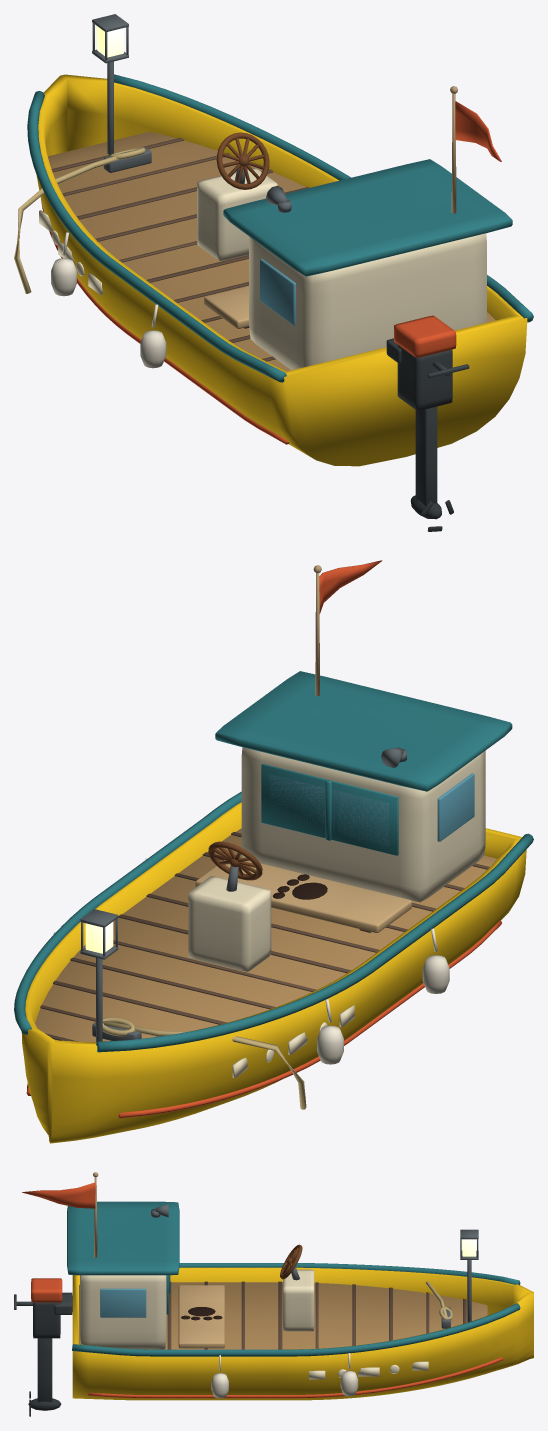
File: boat_v2.glb
3 renders of one model, top to bottom at view 1: azimuth 30°, elevation 25°; view 2: azimuth 150°, elevation 25°; view 3: azimuth 270°, elevation 25°, orthographic. The views are drawn at different scales.
Visible parts, largest first — view 1: Boat_Hull, Boat_Cabin, Boat_CabinRoof, Boat_Deck, Boat_Rail, Boat_HelmStand, Boat_DeckPlanks, Boat_Motor, Boat_MotorLeg, Boat_MotorCowl, Boat_Fenders, Boat_Helm (+9 smaller); view 2: Boat_Hull, Boat_Deck, Boat_CabinRoof, Boat_Cabin, Boat_Rail, Boat_WindowFrames, Boat_HelmStand, Boat_Bench, Boat_Windows, Boat_DeckPlanks, Boat_Fenders, Boat_Stripe (+7 smaller); view 3: Boat_Hull, Boat_Deck, Boat_CabinRoof, Boat_Rail, Boat_Cabin, Boat_Bench, Boat_DeckPlanks, Boat_HelmStand, Boat_Stripe, Boat_Windows, Boat_MotorLeg, Boat_Motor (+7 smaller).
Boxes of the visible parts, x1,y1,x2,y2 form: Boat_Hull: (36,74,527,466); Boat_Cabin: (249,233,486,370); Boat_CabinRoof: (223,159,512,276); Boat_Deck: (48,131,495,371); Boat_Rail: (27,74,533,382); Boat_HelmStand: (197,168,277,260); Boat_DeckPlanks: (51,138,309,361); Boat_Motor: (386,338,452,410); Boat_MotorLeg: (410,406,453,531); Boat_MotorCowl: (394,315,456,357); Boat_Fenders: (51,232,166,368); Boat_Helm: (216,132,269,189); Boat_Hull: (21,802,526,1143); Boat_Deck: (35,828,497,1042); Boat_CabinRoof: (215,671,512,791); Boat_Cabin: (241,747,485,902); Boat_Rail: (14,791,533,1052); Boat_WindowFrames: (261,763,398,855); Boat_HelmStand: (188,876,271,971); Boat_Bench: (195,860,411,932); Boat_Windows: (269,773,474,846); Boat_DeckPlanks: (40,832,489,1041); Boat_Fenders: (53,858,449,1064); Boat_Stripe: (26,920,501,1118); Boat_Hull: (72,1267,533,1400); Boat_Deck: (79,1282,487,1349); Boat_CabinRoof: (67,1201,179,1275); Boat_Rail: (72,1263,520,1356); Boat_Cabin: (80,1275,166,1349); Boat_Bench: (178,1285,224,1348); Boat_DeckPlanks: (167,1281,466,1349); Boat_HelmStand: (283,1269,314,1331); Boat_Stripe: (88,1357,502,1398); Boat_Windows: (100,1288,146,1317); Boat_MotorLeg: (28,1338,61,1416); Boat_Motor: (33,1292,72,1338).
Bounding box in the file's own units: 2.59 × 3.17 × 5.63.
